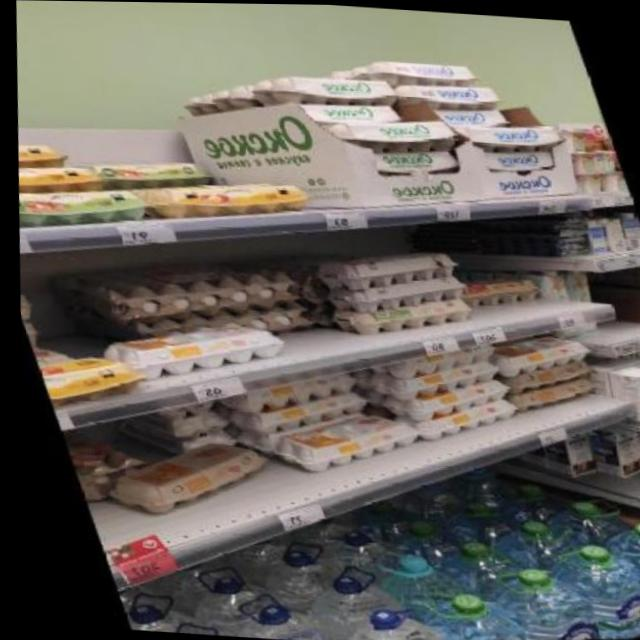Egg: (83, 430, 280, 524), (87, 309, 286, 385), (254, 402, 430, 481), (129, 168, 316, 229), (471, 555, 600, 640), (535, 538, 640, 640), (280, 558, 407, 640), (235, 532, 350, 615), (319, 287, 478, 345), (166, 559, 280, 639), (13, 180, 153, 242), (245, 62, 399, 118), (401, 578, 522, 640), (28, 347, 146, 408), (325, 110, 459, 160), (83, 150, 216, 200), (359, 543, 462, 607), (482, 511, 585, 575), (424, 533, 526, 597), (582, 513, 640, 614), (211, 587, 320, 640), (389, 73, 505, 119), (368, 50, 485, 95), (14, 155, 107, 207), (537, 492, 628, 545), (452, 116, 564, 159), (107, 582, 198, 633), (328, 597, 431, 640), (445, 268, 543, 311), (571, 420, 640, 481), (588, 358, 640, 432), (300, 94, 401, 130), (537, 428, 597, 480), (371, 144, 460, 178), (14, 134, 72, 179), (426, 100, 508, 131), (479, 142, 556, 175)
